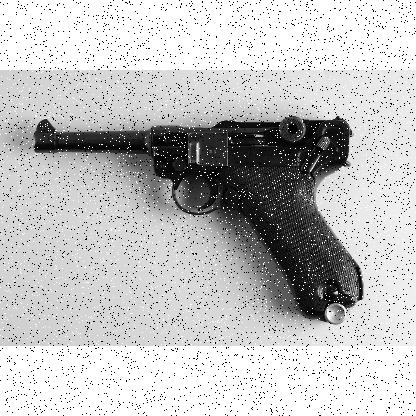gun: (32, 114, 364, 324)
